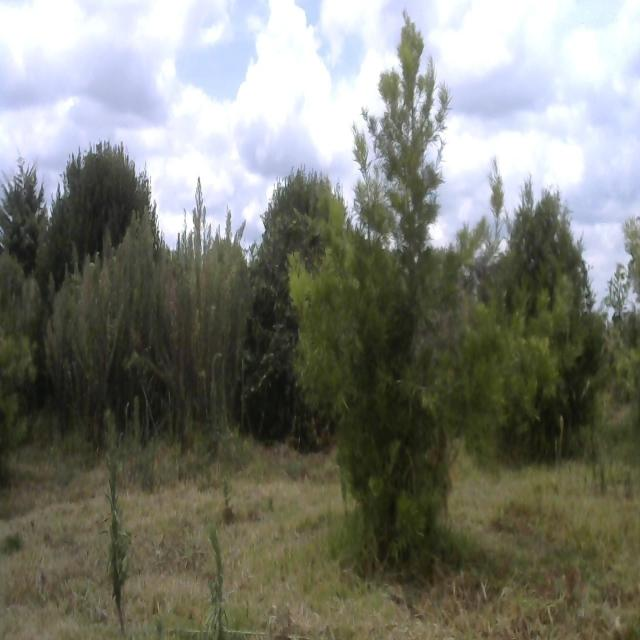Juniperus procesera: (0, 153, 51, 265)
Olea europea -africana-: (242, 175, 354, 427), (41, 140, 162, 284)
Podocarpus falcatus: (279, 16, 541, 620)
